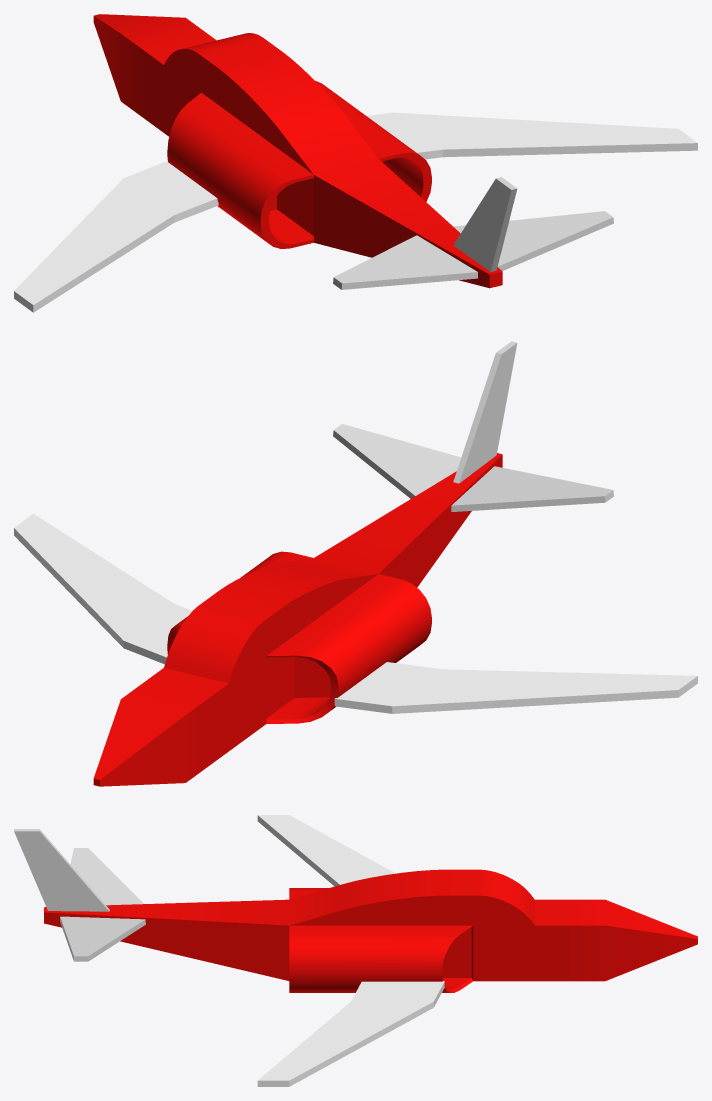
File: EnemyPlane.fbx
3 views of the same model, one above another, from view 1: azimuth 30°, elevation 25°; view 2: azimuth 150°, elevation 25°; view 3: azimuth 270°, elevation 25° (orthographic). The views are drawn at different scales.
Visible parts, largest first — view 1: Cube, Cube.001, Cube.003, Cube.002; view 2: Cube, Cube.001, Cube.003, Cube.002; view 3: Cube, Cube.001, Cube.003, Cube.002.
Part boxes in pixels (bbox=[...]): Cube: bbox=[93, 14, 502, 288]; Cube.001: bbox=[14, 112, 697, 312]; Cube.003: bbox=[333, 211, 613, 289]; Cube.002: bbox=[453, 177, 517, 271]; Cube: bbox=[93, 453, 502, 786]; Cube.001: bbox=[14, 514, 697, 713]; Cube.003: bbox=[333, 424, 613, 511]; Cube.002: bbox=[453, 341, 517, 483]; Cube: bbox=[44, 869, 697, 992]; Cube.001: bbox=[257, 815, 444, 1086]; Cube.003: bbox=[60, 848, 145, 961]; Cube.002: bbox=[14, 829, 109, 911].
Size of the model in its own units: 11.15 by 10.24 by 2.48.
